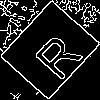R: (25, 25, 84, 83)
